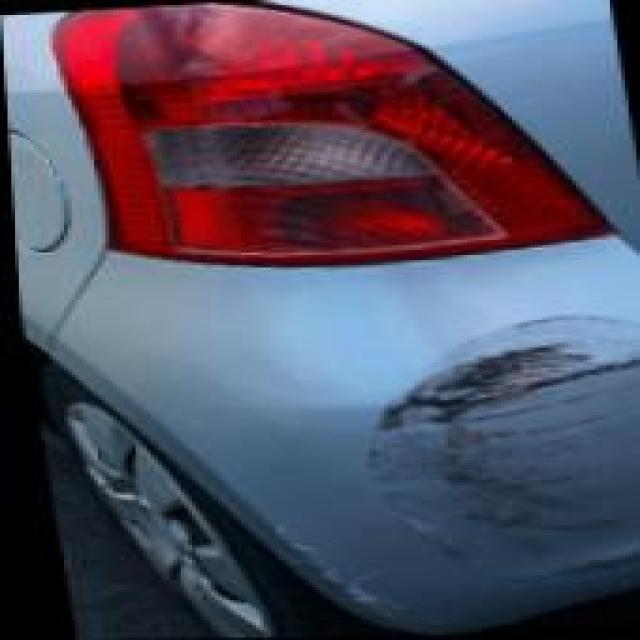Bumper: (203, 262, 640, 580)
